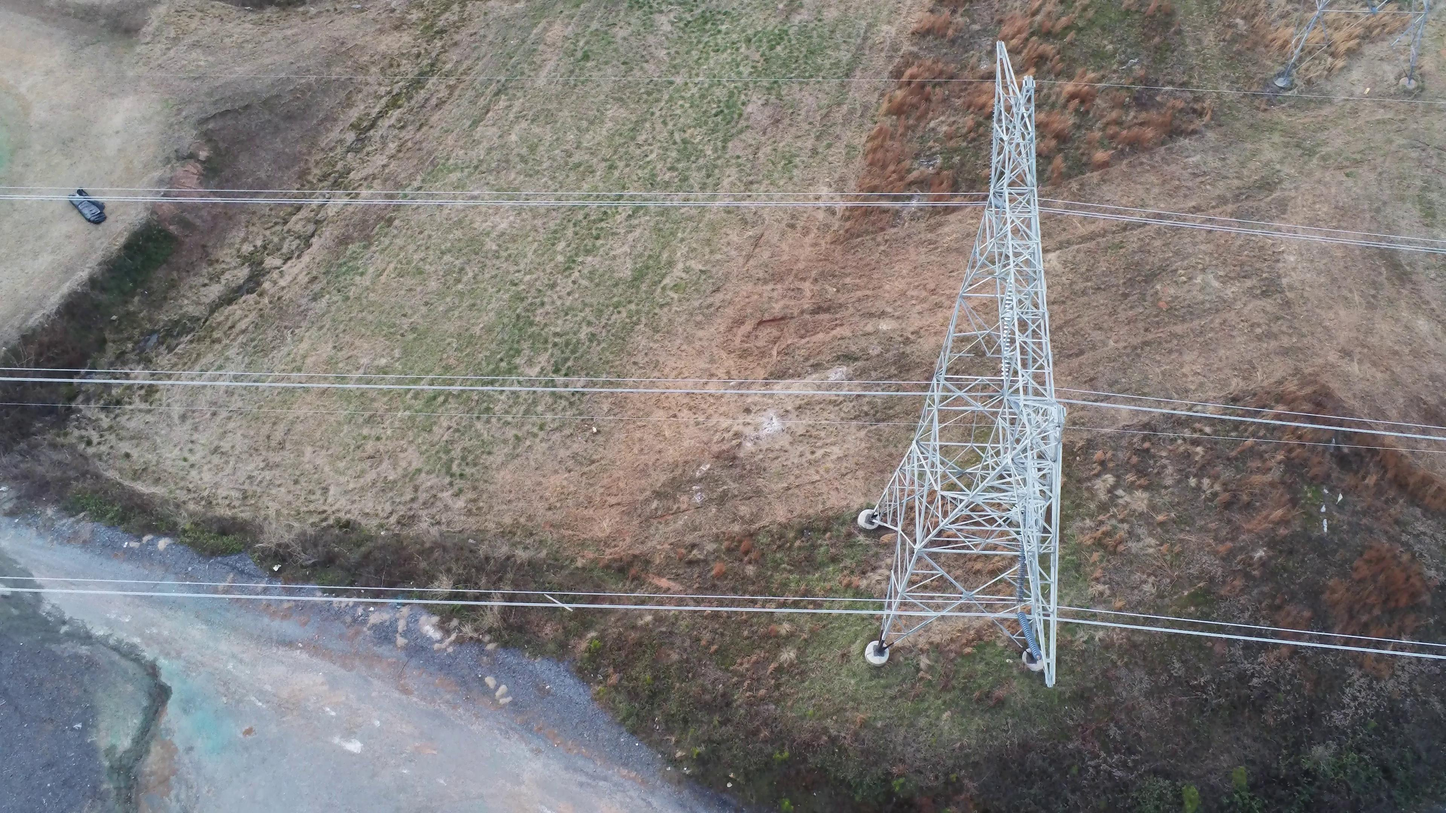power_tower: (857, 40, 1067, 688)
